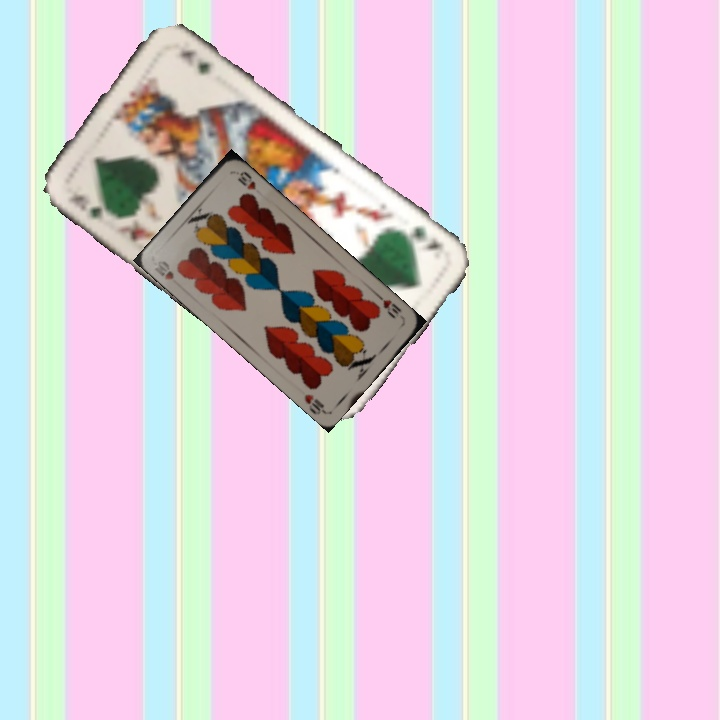GK: (70, 190, 115, 222), (409, 222, 443, 254)
H10: (373, 291, 404, 321), (150, 256, 177, 282)
